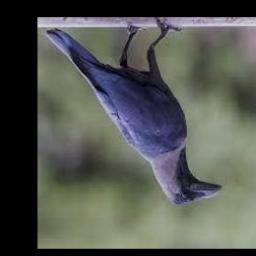Crow: (44, 20, 221, 206)
